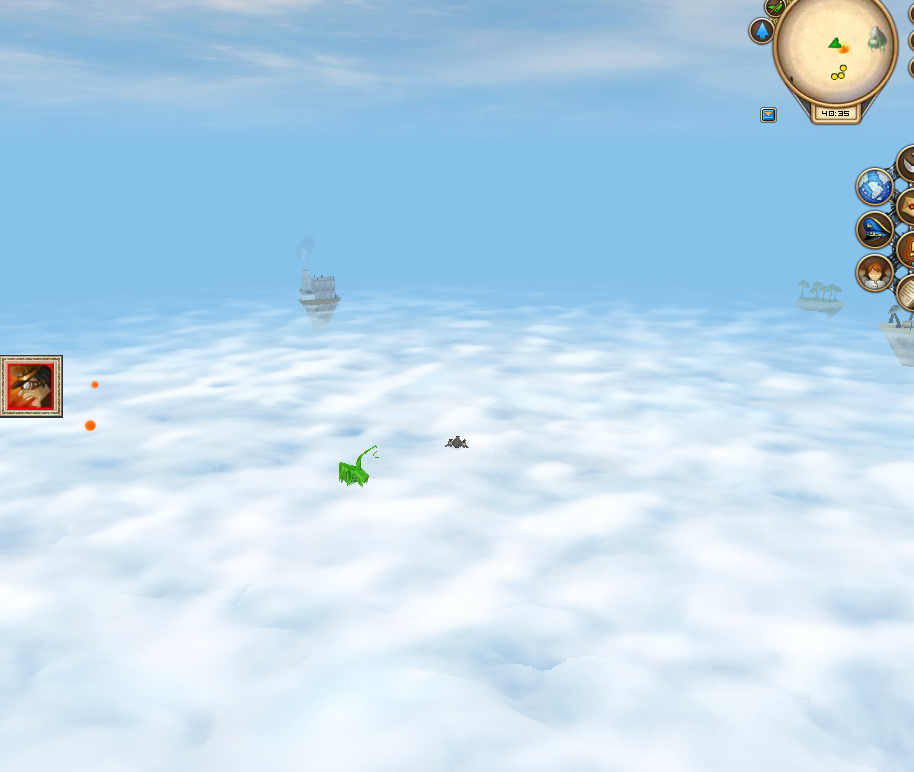dandelion-empty: (331, 434, 382, 487)
fluff: (80, 416, 100, 433), (87, 377, 102, 391)
